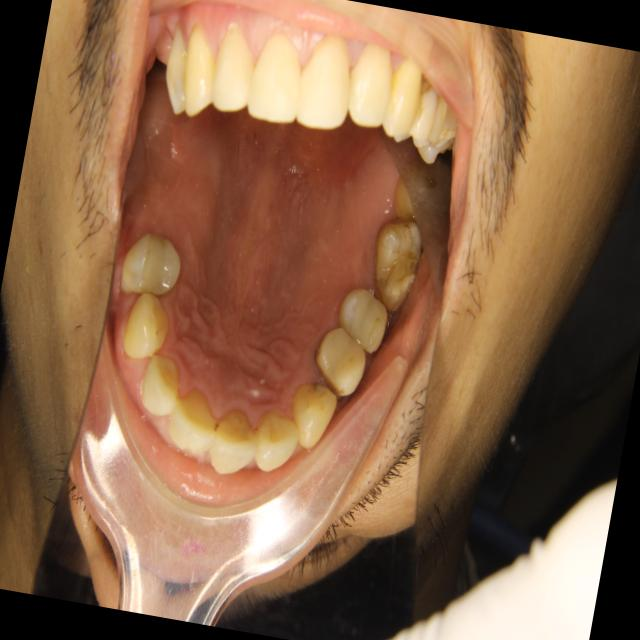tooth: (357, 204, 433, 323), (155, 366, 233, 478), (107, 280, 185, 390), (113, 222, 197, 313), (383, 141, 455, 244), (303, 319, 375, 406), (127, 338, 191, 434), (200, 397, 270, 483), (326, 275, 394, 363), (242, 401, 309, 489), (281, 375, 348, 459)
